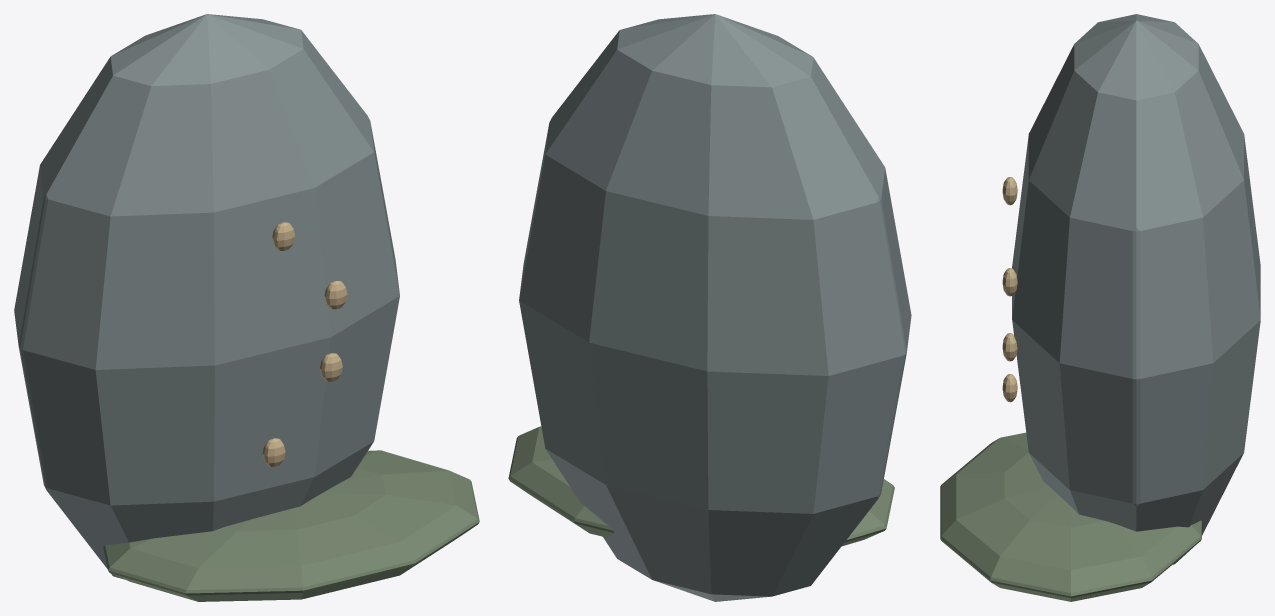
The model's file is glade-stone.glb.
The picture shows the model from 3 angles, left to right: view 1: azimuth 30°, elevation 25°; view 2: azimuth 150°, elevation 25°; view 3: azimuth 270°, elevation 25°; orthographic projection. The views are drawn at different scales.
Parts seen in each view (by area): view 1: glade-stone_Discovery_Mesh; view 2: glade-stone_Discovery_Mesh; view 3: glade-stone_Discovery_Mesh.
Part boxes in pixels (box(x1,y1,x2,y2)): glade-stone_Discovery_Mesh: box(14, 14, 479, 601); glade-stone_Discovery_Mesh: box(508, 14, 911, 601); glade-stone_Discovery_Mesh: box(940, 14, 1260, 601).
Size of the model in its own units: 1.04 by 1.38 by 0.7358.
